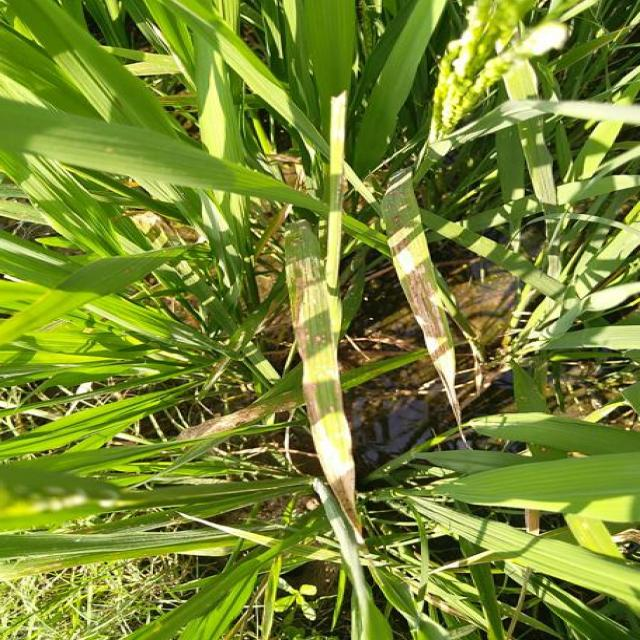Leaf Streak: (284, 220, 355, 524), (382, 167, 460, 434), (177, 393, 293, 440)
